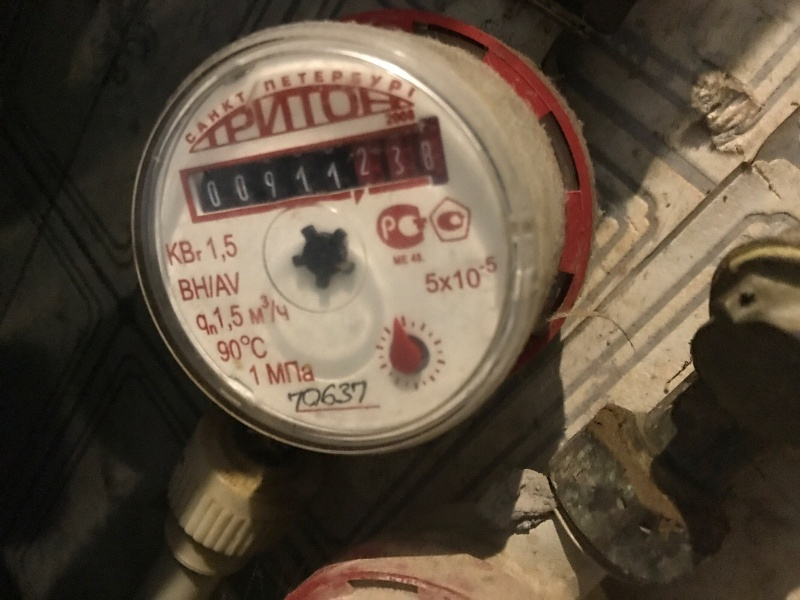dial: (161, 143, 458, 196)
